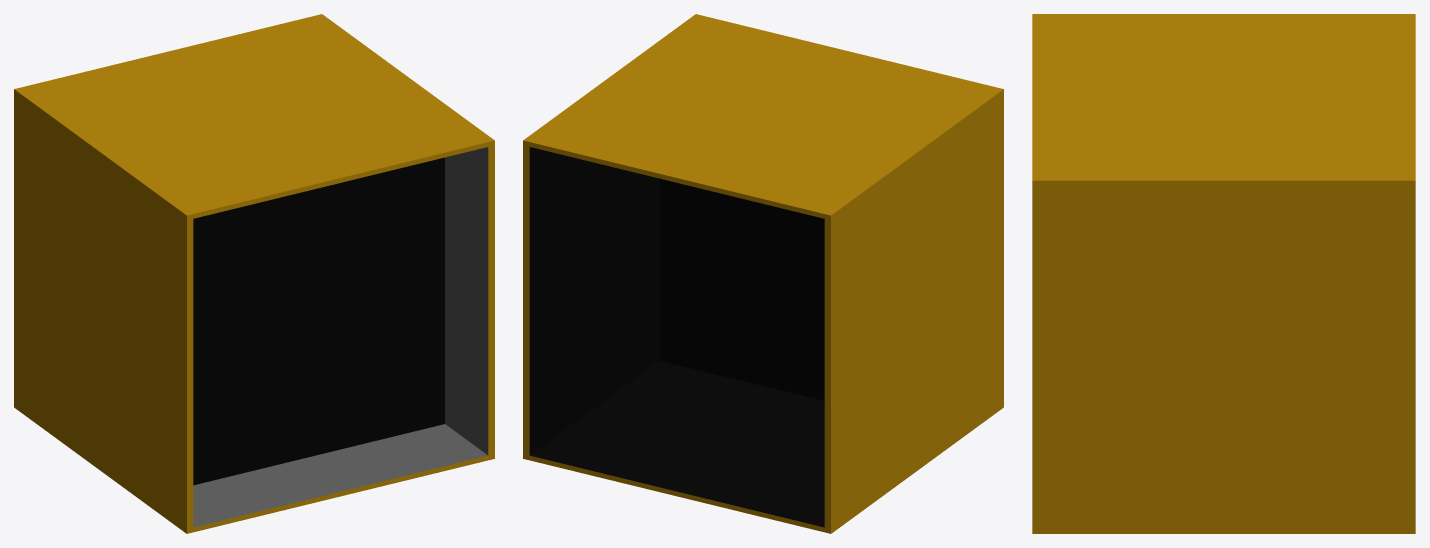
The model's file is Frame2_gold.glb.
3 views of the same model, side by side, from view 1: azimuth 30°, elevation 25°; view 2: azimuth 150°, elevation 25°; view 3: azimuth 270°, elevation 25° (orthographic). The views are drawn at different scales.
Visible parts, largest first — view 1: Material2, A_PaintingMesh, Material3.001; view 2: Material2, Material3.004; view 3: Material2.
Boxes of the visible parts, bbox=[...] form: Material2: bbox=[14, 14, 494, 533]; A_PaintingMesh: bbox=[193, 157, 444, 485]; Material3.001: bbox=[193, 147, 488, 527]; Material2: bbox=[523, 14, 1003, 533]; Material3.004: bbox=[529, 147, 824, 527]; Material2: bbox=[1032, 14, 1415, 533].
Size of what is drawn, in the model's own units: 1.05 by 1.03 by 1.02.
5 materials, 1 textured.
